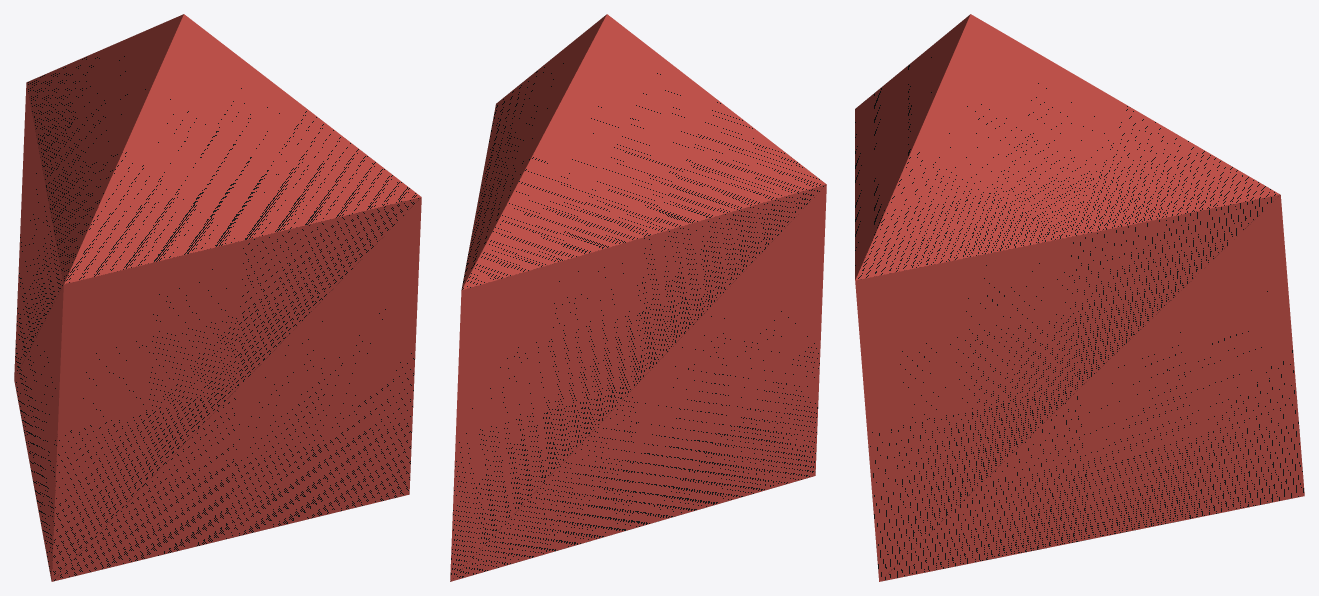
Rendered from DL_Obj_Level5_AltarCrystalTriangle.fbx.
The picture shows the model from 3 angles, left to right: view 1: azimuth 30°, elevation 25°; view 2: azimuth 150°, elevation 25°; view 3: azimuth 270°, elevation 25°; orthographic projection. The views are drawn at different scales.
Visible parts, largest first — view 1: Level5_AltarCrystalTriangle; view 2: Level5_AltarCrystalTriangle; view 3: Level5_AltarCrystalTriangle.
Boxes of the visible parts, left/top/right/bottom form: Level5_AltarCrystalTriangle: left=14, top=14, right=421, bottom=581; Level5_AltarCrystalTriangle: left=450, top=14, right=826, bottom=581; Level5_AltarCrystalTriangle: left=855, top=14, right=1304, bottom=581.
Size of the model in its own units: 60.98 by 79.79 by 67.45.
